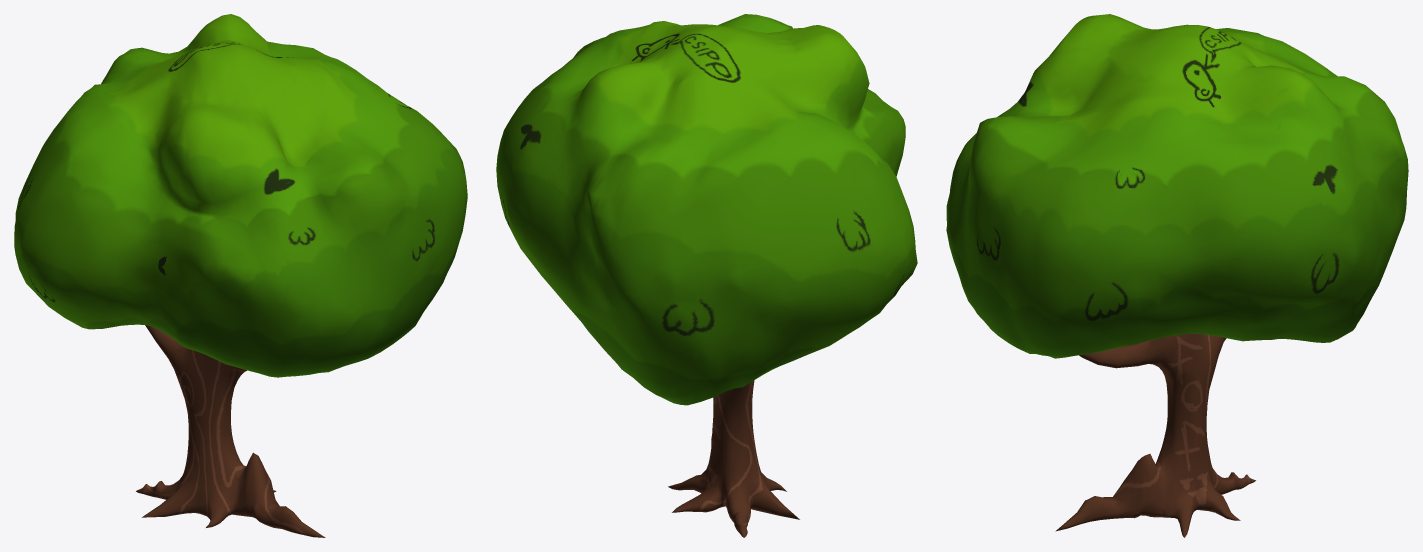
Rendered from arbol_central.obj.
3 renders of one model, left to right at view 1: azimuth 30°, elevation 25°; view 2: azimuth 150°, elevation 25°; view 3: azimuth 270°, elevation 25°, orthographic. The views are drawn at different scales.
Visible parts, largest first — view 1: model_0; view 2: model_0; view 3: model_0.
Part boxes in pixels (x1,y1,x2,y2): model_0: [14, 14, 467, 537]; model_0: [496, 14, 917, 537]; model_0: [946, 14, 1408, 537].
Size of the model in its own units: 84.83 by 96.48 by 84.06.
